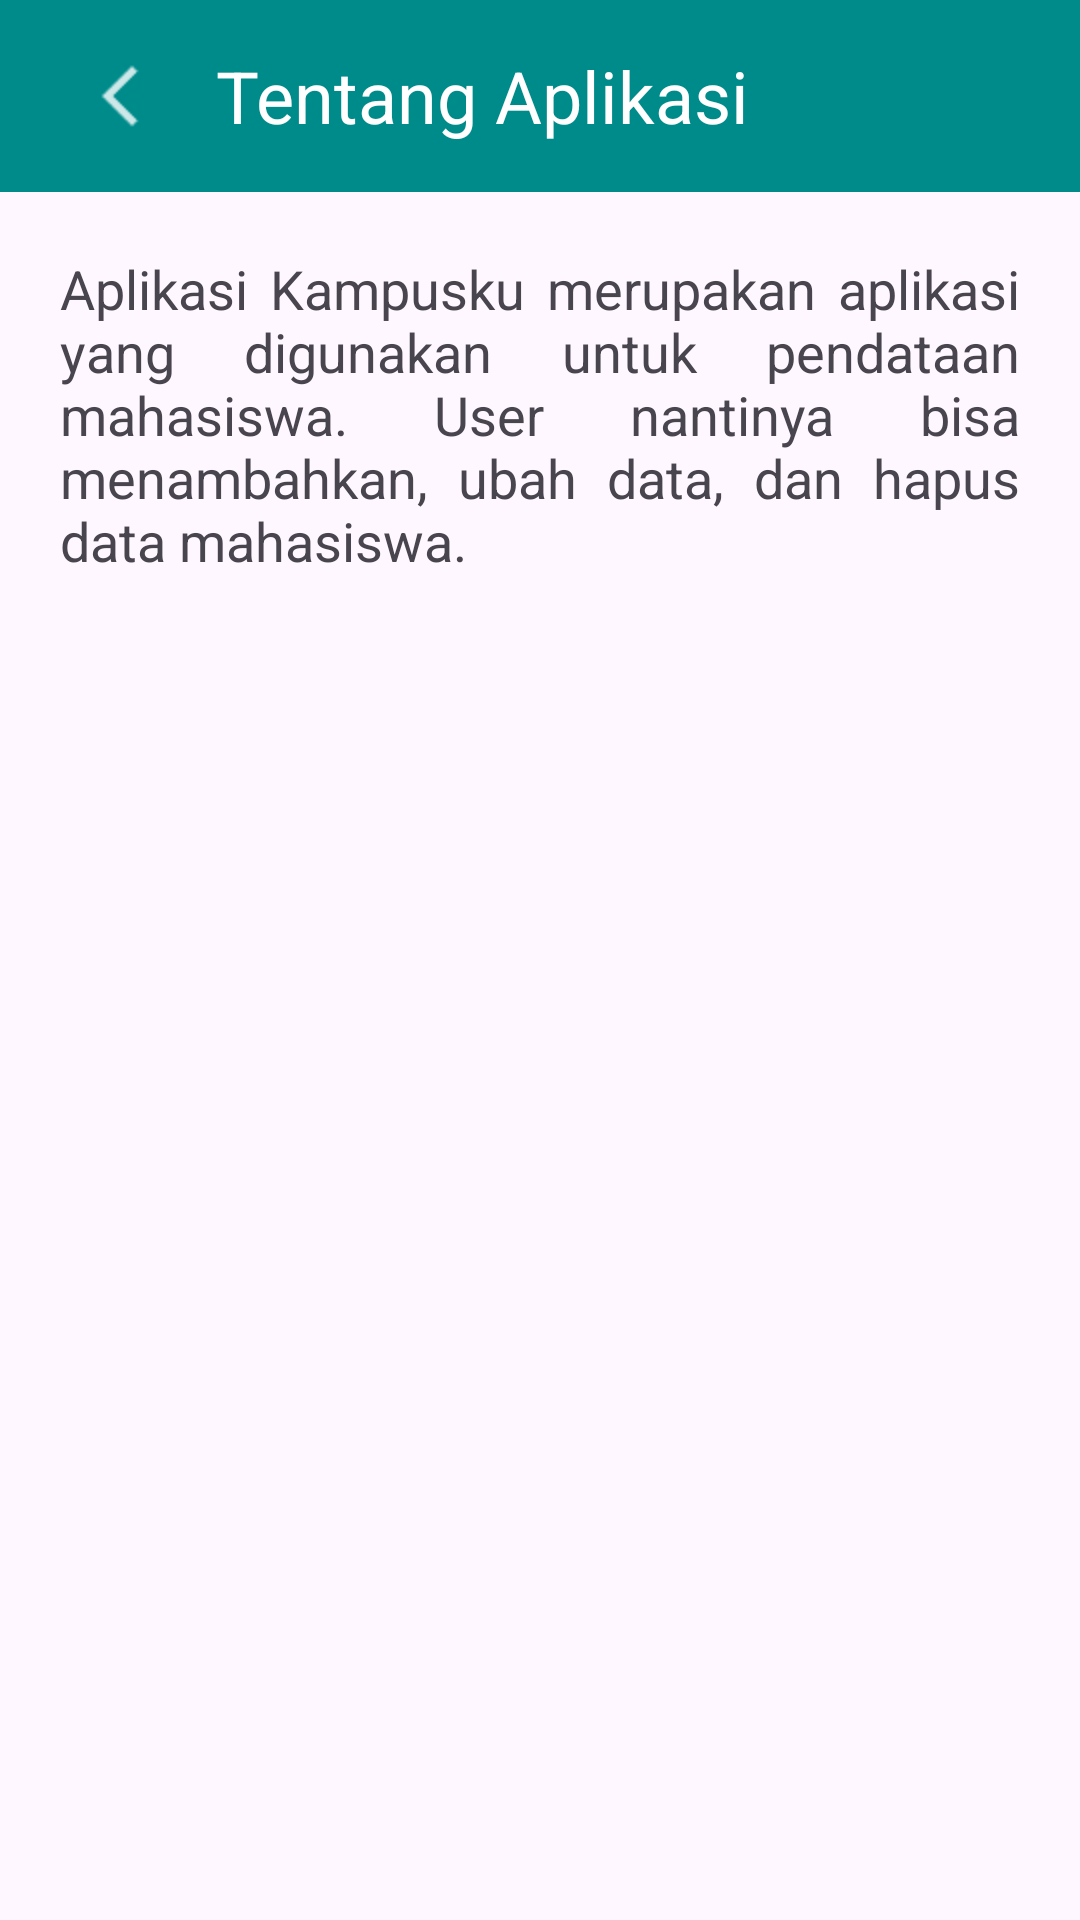

Icons on this 1080 × 1920 Android screen, each with its box as (x1, y1, x2, y2):
Kembali: (101, 66, 138, 127)
